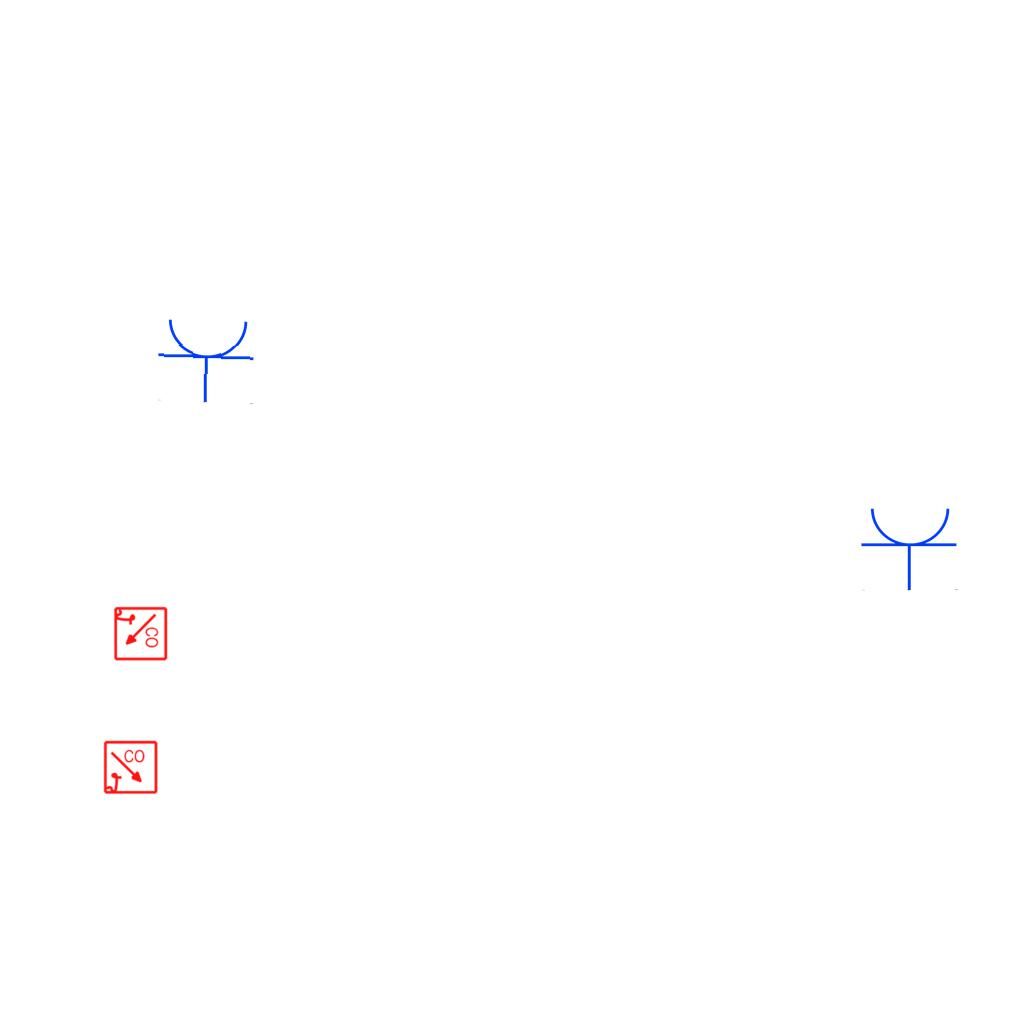ROA_Rauchmelder_optisch_mit_Signalgeber_(Sockelsirene): (103, 740, 159, 796), (112, 606, 168, 662)
Schukosteckdose_einfach: (155, 314, 259, 405), (860, 504, 960, 591)
